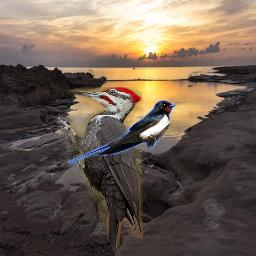Swallow: (67, 100, 176, 164)
Woodpecker: (58, 87, 143, 255)
